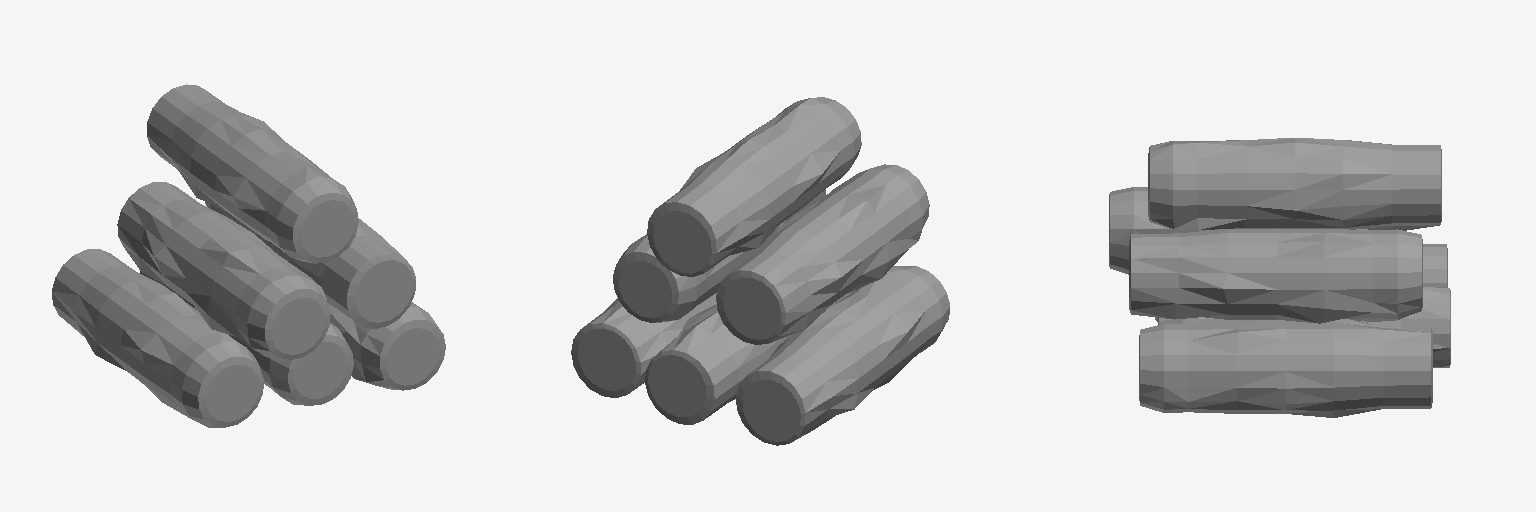
File: wood.obj
The picture shows the model from 3 angles: view 1: azimuth 30°, elevation 25°; view 2: azimuth 150°, elevation 25°; view 3: azimuth 270°, elevation 25°; orthographic projection.
Visible parts, largest first — view 1: Wood.004_Cylinder.009, Wood.005_Cylinder.010, Wood_Cylinder, Wood.003_Cylinder.008, Wood.002_Cylinder.007, Wood.001_Cylinder.006; view 2: Wood.004_Cylinder.009, Wood.005_Cylinder.010, Wood_Cylinder, Wood.001_Cylinder.006, Wood.002_Cylinder.007, Wood.003_Cylinder.008; view 3: Wood.003_Cylinder.008, Wood.002_Cylinder.007, Wood.005_Cylinder.010, Wood.001_Cylinder.006, Wood.004_Cylinder.009, Wood_Cylinder.
Part boxes in pixels (bbox=[...]): Wood.004_Cylinder.009: bbox=[117, 182, 330, 361]; Wood.005_Cylinder.010: bbox=[147, 84, 358, 263]; Wood_Cylinder: bbox=[52, 249, 263, 427]; Wood.003_Cylinder.008: bbox=[205, 202, 415, 328]; Wood.002_Cylinder.007: bbox=[328, 302, 445, 390]; Wood.001_Cylinder.006: bbox=[140, 271, 353, 405]; Wood.004_Cylinder.009: bbox=[716, 164, 929, 344]; Wood.005_Cylinder.010: bbox=[647, 97, 861, 276]; Wood_Cylinder: bbox=[736, 266, 949, 445]; Wood.001_Cylinder.006: bbox=[645, 290, 855, 424]; Wood.002_Cylinder.007: bbox=[571, 293, 716, 397]; Wood.003_Cylinder.008: bbox=[613, 189, 825, 322]; Wood.003_Cylinder.008: bbox=[1129, 228, 1422, 323]; Wood.002_Cylinder.007: bbox=[1139, 319, 1432, 417]; Wood.005_Cylinder.010: bbox=[1148, 138, 1441, 230]; Wood.001_Cylinder.006: bbox=[1158, 287, 1450, 367]; Wood.004_Cylinder.009: bbox=[1109, 187, 1367, 274]; Wood_Cylinder: bbox=[1155, 244, 1447, 321].
Size of the model in its own units: 6.44 by 5.73 by 7.47.